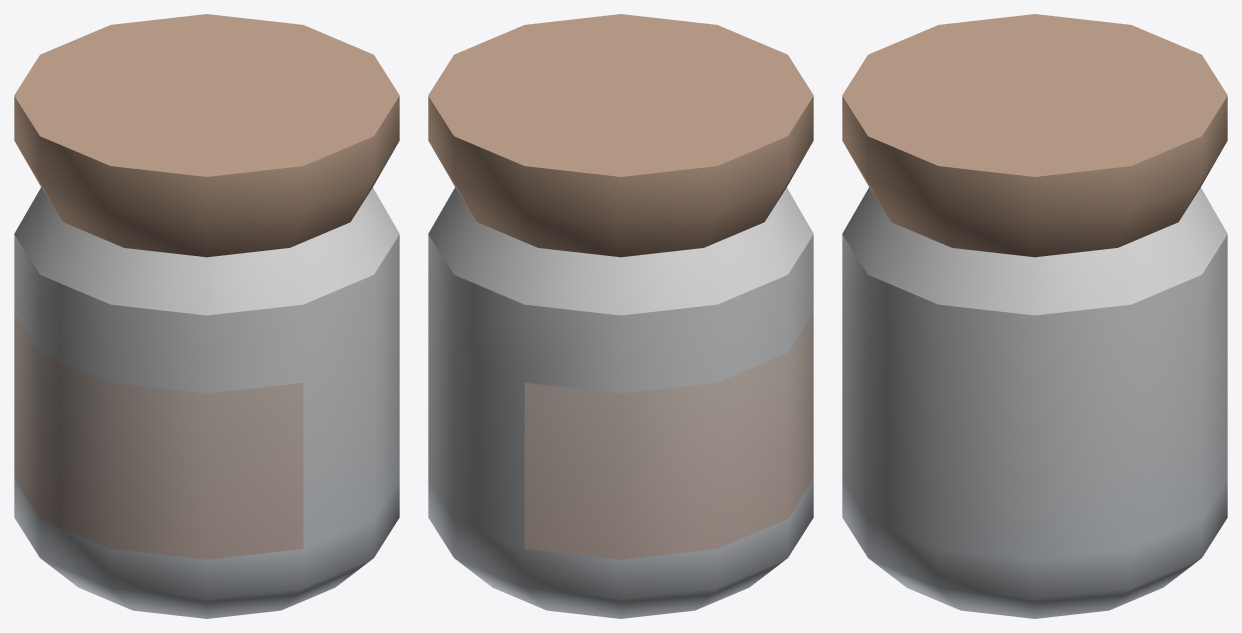
The model's file is jar.glb.
3 views of the same model, side by side, from view 1: azimuth 30°, elevation 25°; view 2: azimuth 150°, elevation 25°; view 3: azimuth 270°, elevation 25° (orthographic).
Parts seen in each view (by area): view 1: jar; view 2: jar; view 3: jar.
Part boxes in pixels (x1,y1,x2,y2): jar: [14, 14, 399, 618]; jar: [428, 14, 813, 618]; jar: [842, 14, 1227, 618].
Size of the model in its own units: 0.1791 by 0.2361 by 0.1791.
